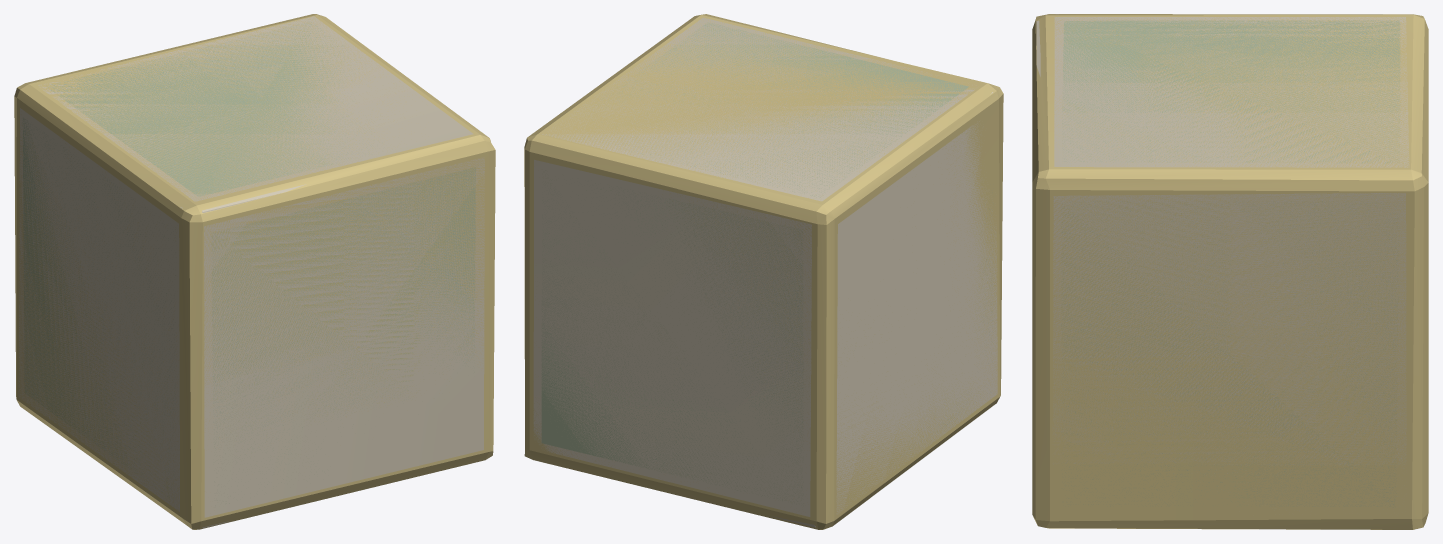
3 renders of one model, left to right at view 1: azimuth 30°, elevation 25°; view 2: azimuth 150°, elevation 25°; view 3: azimuth 270°, elevation 25°, orthographic. The views are drawn at different scales.
Parts seen in each view (by area): view 1: test.cube.v0.mesh, test.cube.v1.mesh, test.cube.v2.mesh; view 2: test.cube.v0.mesh, test.cube.v1.mesh, test.cube.v2.mesh; view 3: test.cube.v1.mesh, test.cube.v0.mesh, test.cube.v2.mesh.
Part boxes in pixels (<box>): test.cube.v0.mesh: <box>18,16,484,528</box>; test.cube.v1.mesh: <box>14,14,495,529</box>; test.cube.v2.mesh: <box>22,21,475,505</box>; test.cube.v0.mesh: <box>533,17,997,527</box>; test.cube.v1.mesh: <box>524,14,1003,529</box>; test.cube.v2.mesh: <box>541,22,992,504</box>; test.cube.v1.mesh: <box>1032,14,1428,529</box>; test.cube.v0.mesh: <box>1036,14,1409,509</box>; test.cube.v2.mesh: <box>1061,20,1400,507</box>.
Bounding box in the file's own units: 1 × 1 × 1.
